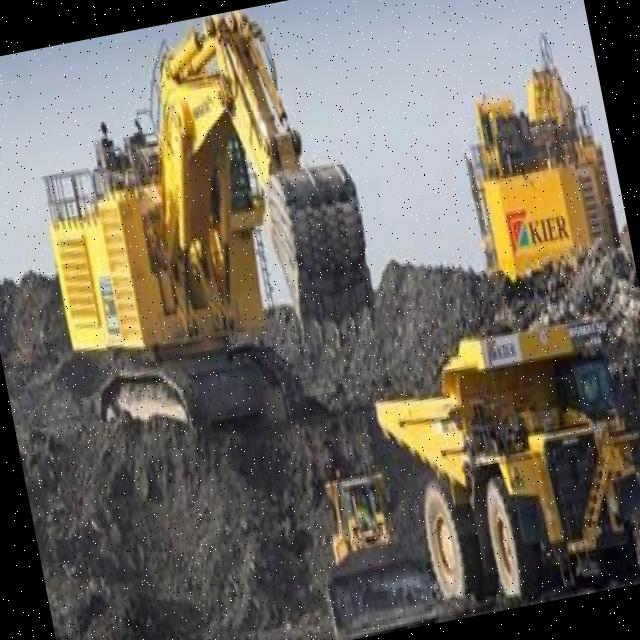Bulldozer: (277, 426, 454, 640)
Dump Truck: (352, 245, 640, 627)
Excavator: (0, 0, 421, 484), (434, 52, 640, 342)
